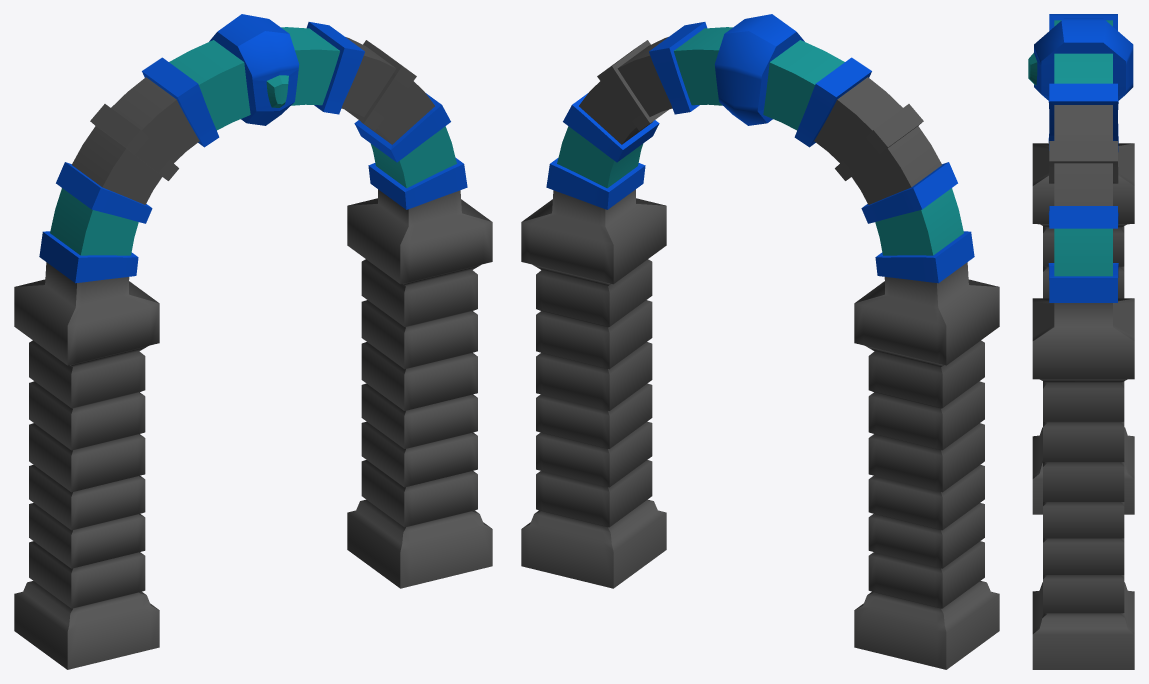
Rendered from ArcoDePiedraMSv24.fbx.
3 views of the same model, side by side, from view 1: azimuth 30°, elevation 25°; view 2: azimuth 150°, elevation 25°; view 3: azimuth 270°, elevation 25° (orthographic). The views are drawn at different scales.
Parts seen in each view (by area): view 1: Box001; view 2: Box001; view 3: Box001.
Part boxes in pixels (<box>): Box001: <box>14,14,492,669</box>; Box001: <box>521,14,999,669</box>; Box001: <box>1028,14,1134,669</box>.
Size of the model in its own units: 46.07 by 59.63 by 10.43.
